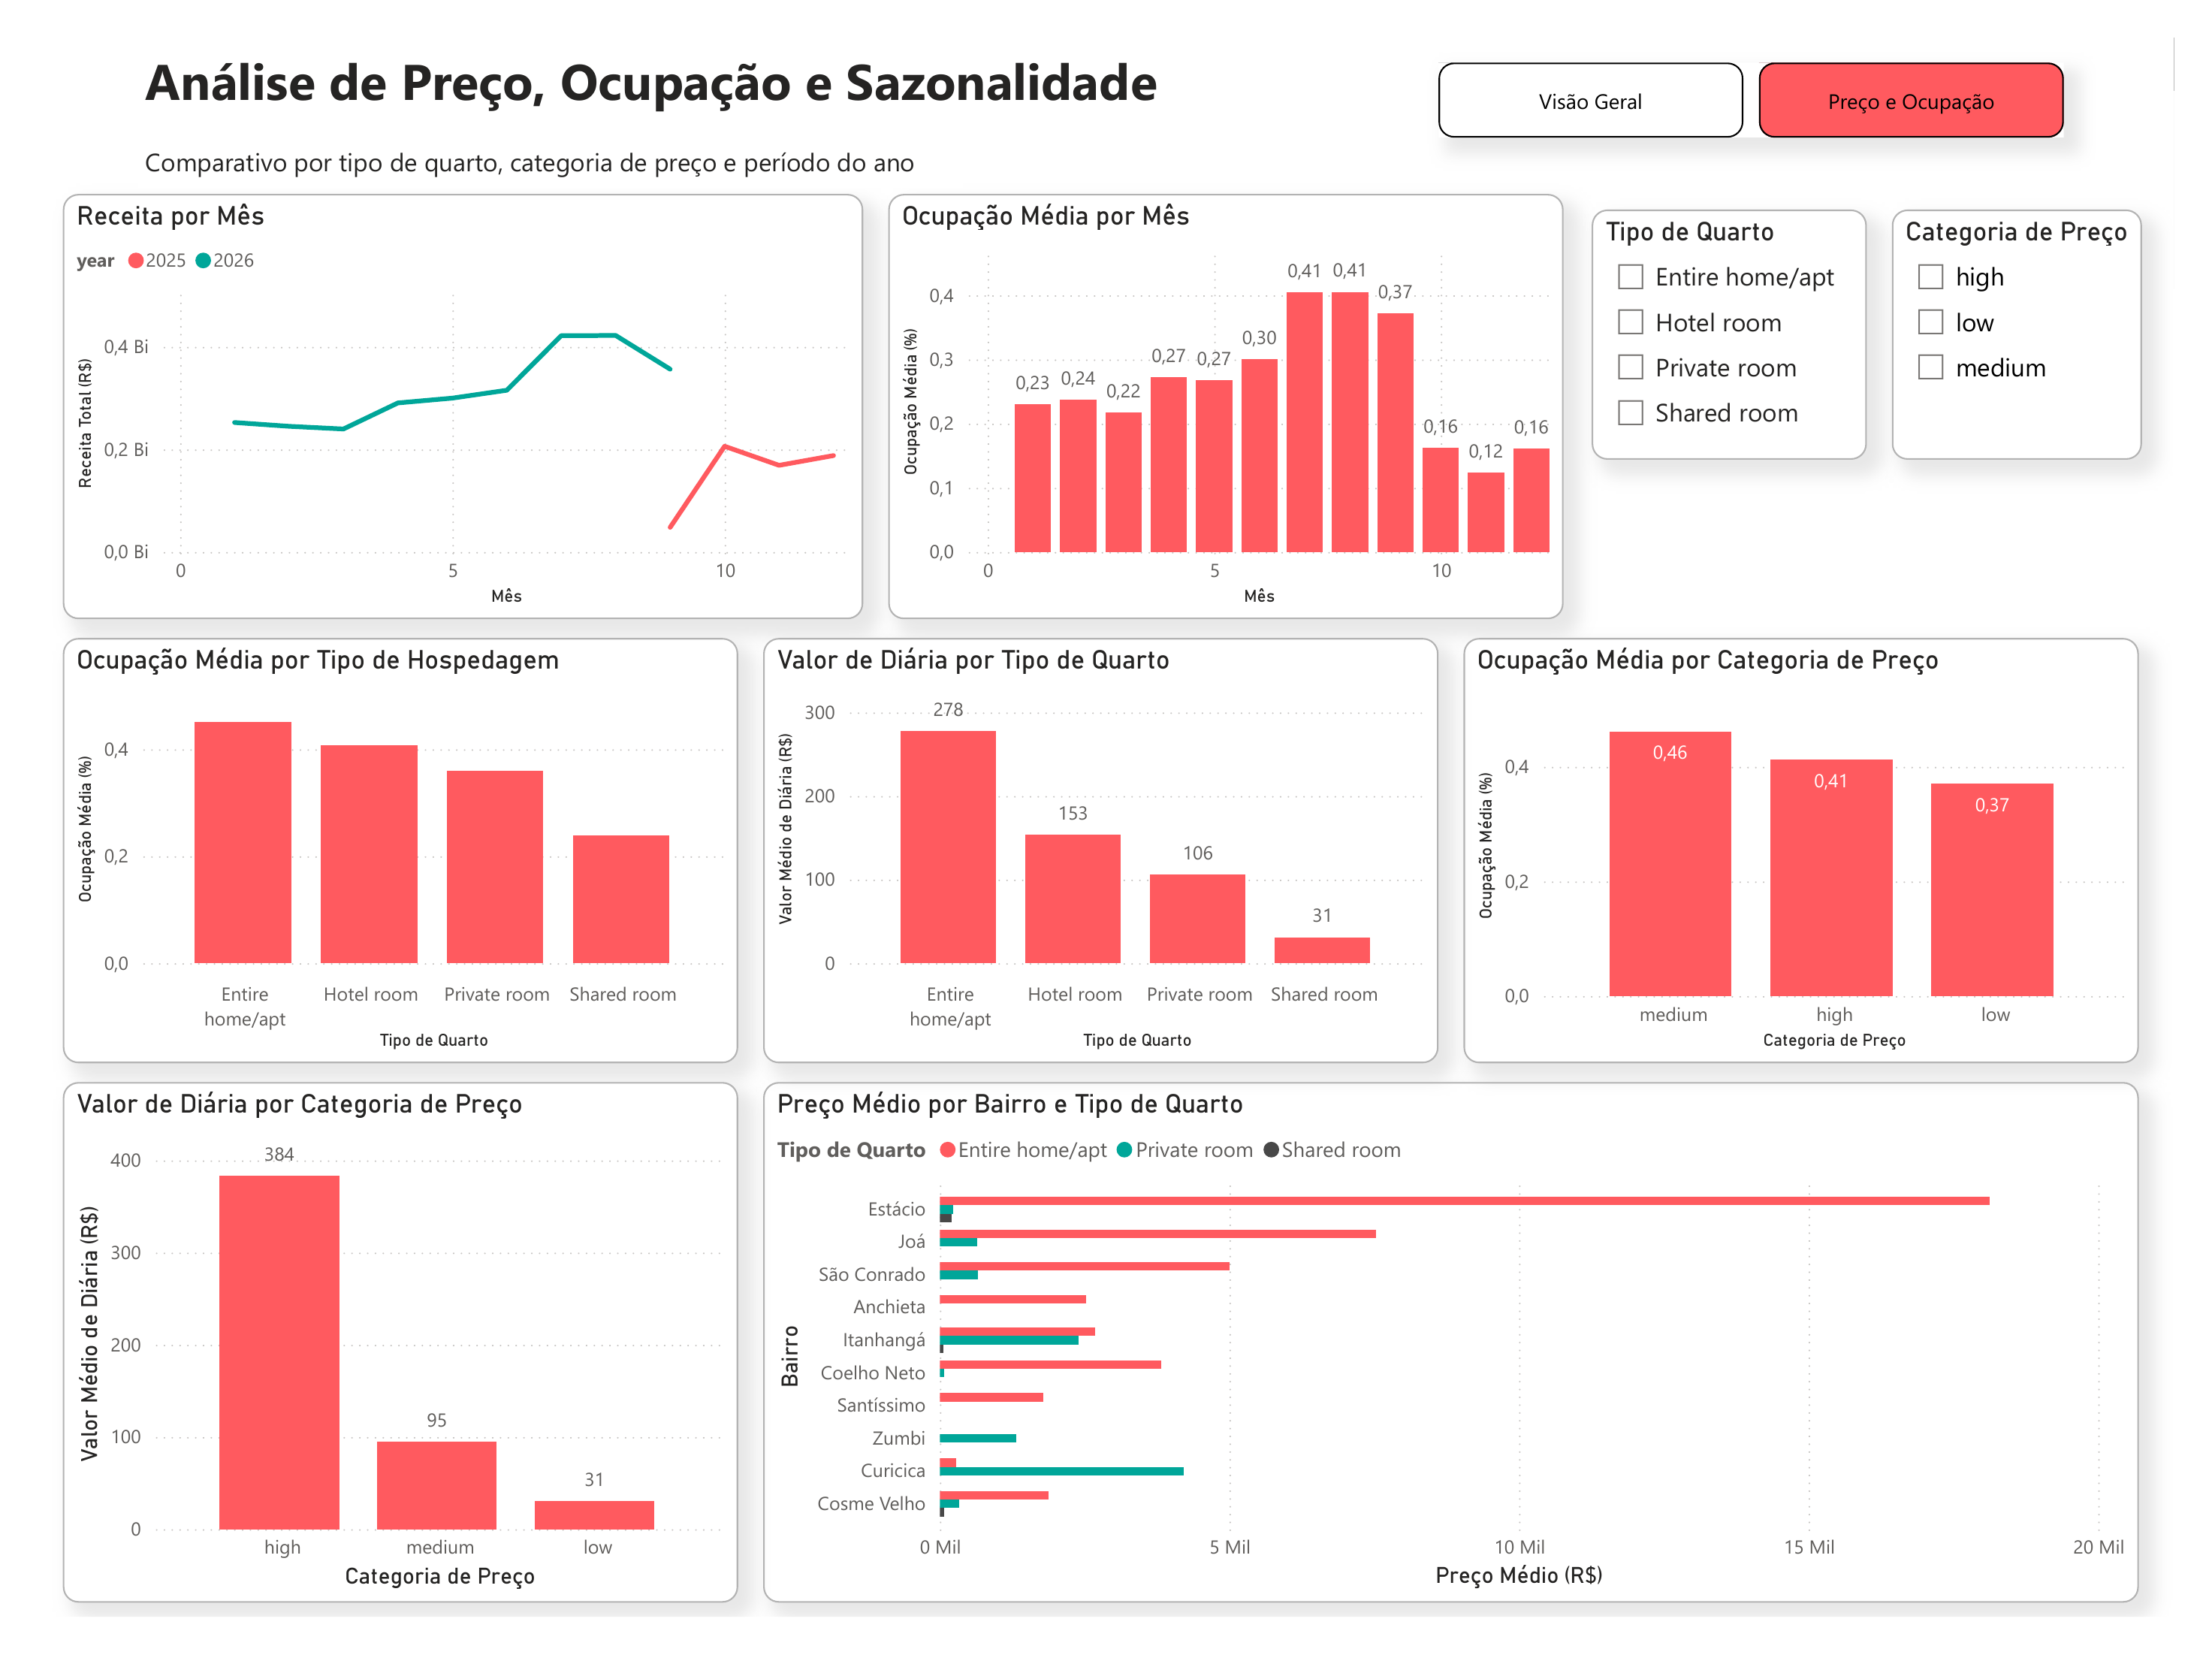

This screenshot's page, from the dashboard's own definition file:
{"tool":"powerbi","page":{"name":"Preço e Ocupação","canvas":[1366,1010],"ordinal":1},"visuals":[{"type":"lineChart","title":"Receita por Mês","fields":{"Category":["mart_seasonality.month"],"Y":["Sum(mart_seasonality.total_revenue)"],"Series":["mart_seasonality.year"]},"box":[16,100,512,272],"z":0},{"type":"clusteredColumnChart","title":"Ocupação Média por Mês","fields":{"Category":["mart_seasonality.month"],"Y":["Avg(mart_seasonality.occupancy_rate)"]},"box":[544,100,432,272],"z":1000},{"type":"clusteredColumnChart","title":"Ocupação Média por Tipo de Hospedagem","fields":{"Category":["mart_listings_full.room_type"],"Y":["Avg(mart_listings_full.occupancy_rate)"]},"box":[16,384,432,272],"z":2000},{"type":"clusteredBarChart","title":"Preço Médio por Bairro e Tipo de Quarto","fields":{"Category":["mart_listings_full.neighbourhood"],"Series":["mart_listings_full.room_type"],"Y":["Avg(mart_listings_full.price)"]},"box":[464,668,880,333],"z":3000},{"type":"clusteredColumnChart","title":"Ocupação Média por Categoria de Preço","fields":{"Category":["mart_listings_full.price_category"],"Y":["Avg(mart_listings_full.occupancy_rate)"]},"box":[912,384,432,272],"z":4000},{"type":"clusteredColumnChart","title":"Valor de Diária por Tipo de Quarto","fields":{"Category":["mart_listings_full.room_type"],"Y":["Avg(mart_listings_full.revpar)"]},"box":[464,384,432,272],"z":5000},{"type":"clusteredColumnChart","title":"Valor de Diária por Categoria de Preço","fields":{"Category":["mart_listings_full.price_category"],"Y":["Avg(mart_listings_full.revpar)"]},"box":[16,668,432,333],"z":6000},{"type":"textbox","box":[64,0,736,64],"z":7000},{"type":"textbox","box":[64,64,528,32],"z":8000},{"type":"pageNavigator","box":[896,16,400,48],"z":9000},{"type":"slicer","title":"Tipo de Quarto","fields":{"Values":["mart_listings_full.room_type"]},"box":[994,110,176,160],"z":10000},{"type":"slicer","title":"Categoria de Preço","fields":{"Values":["mart_listings_full.price_category"]},"box":[1186,110,160,160],"z":11000}]}

Visuals, with their boxes on the page's 1366x1010 design canvas (x1, y1, x2, y2). These are canvas units, not pixel positions in the 2212x1655 screenshot, which may show the page scaled, cropped or inside an application window:
"Receita por Mês" lineChart: crop(16, 100, 528, 372)
"Ocupação Média por Mês" clusteredColumnChart: crop(544, 100, 976, 372)
"Ocupação Média por Tipo de Hospedagem" clusteredColumnChart: crop(16, 384, 448, 656)
"Preço Médio por Bairro e Tipo de Quarto" clusteredBarChart: crop(464, 668, 1344, 1001)
"Ocupação Média por Categoria de Preço" clusteredColumnChart: crop(912, 384, 1344, 656)
"Valor de Diária por Tipo de Quarto" clusteredColumnChart: crop(464, 384, 896, 656)
"Valor de Diária por Categoria de Preço" clusteredColumnChart: crop(16, 668, 448, 1001)
textbox: crop(64, 0, 800, 64)
textbox: crop(64, 64, 592, 96)
pageNavigator: crop(896, 16, 1296, 64)
"Tipo de Quarto" slicer: crop(994, 110, 1170, 270)
"Categoria de Preço" slicer: crop(1186, 110, 1346, 270)
